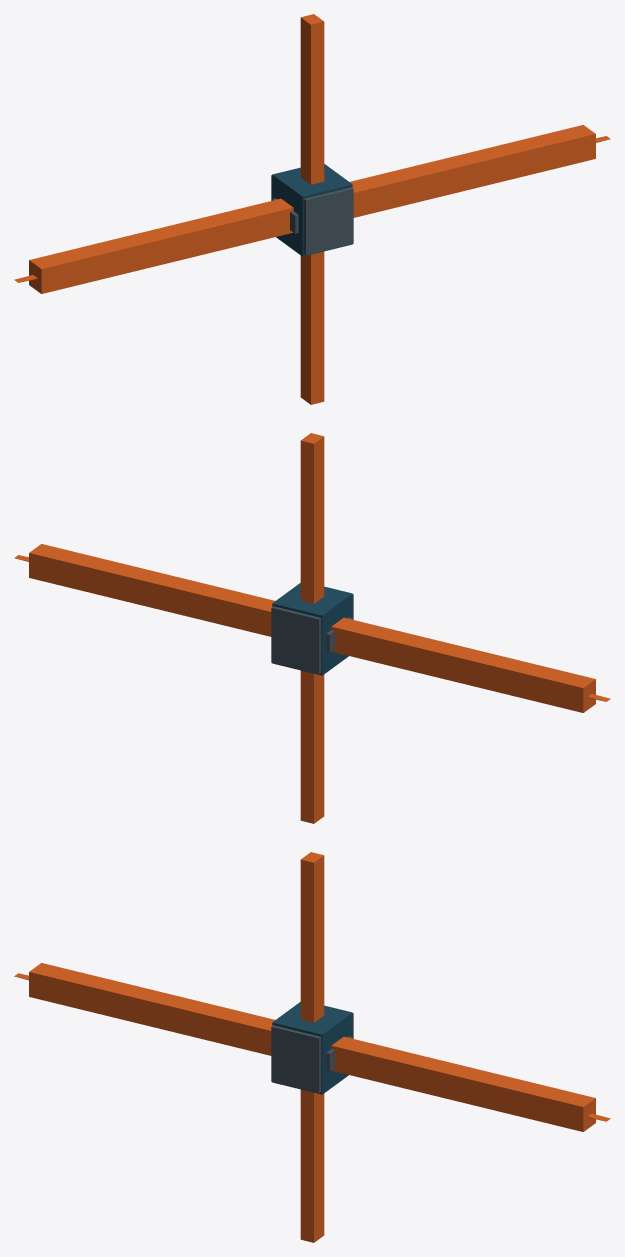
The model's file is rtg_conley_body.dae.
3 views of the same model, one above another, from view 1: azimuth 30°, elevation 25°; view 2: azimuth 150°, elevation 25°; view 3: azimuth 330°, elevation 25° (orthographic).
Parts seen in each view (by area): view 1: top_crossbeam_aft, rtg_leg_aft_port, diesel_hybrid_housing, rtg_cabin; view 2: top_crossbeam_aft, rtg_leg_aft_port, diesel_hybrid_housing, rtg_cabin; view 3: top_crossbeam_aft, rtg_leg_aft_port, diesel_hybrid_housing, rtg_cabin.
Boxes of the visible parts, x1,y1,x2,y2 form: top_crossbeam_aft: [29, 125, 595, 293]; rtg_leg_aft_port: [300, 14, 324, 404]; diesel_hybrid_housing: [271, 175, 353, 255]; rtg_cabin: [272, 164, 352, 256]; top_crossbeam_aft: [29, 544, 595, 712]; rtg_leg_aft_port: [300, 433, 324, 823]; diesel_hybrid_housing: [271, 594, 353, 674]; rtg_cabin: [272, 583, 352, 675]; top_crossbeam_aft: [29, 963, 595, 1131]; rtg_leg_aft_port: [300, 852, 324, 1242]; diesel_hybrid_housing: [271, 1013, 353, 1093]; rtg_cabin: [272, 1002, 352, 1094].
Bounding box in the file's own units: 24.8 × 2.5 × 15.2.
